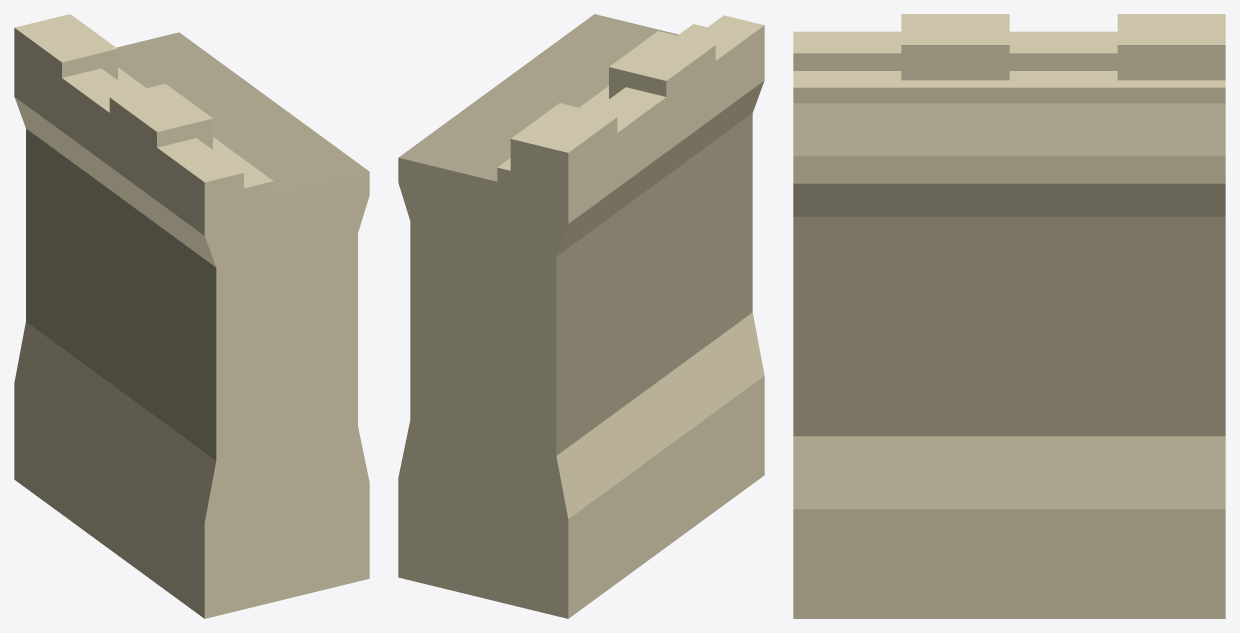
Rendered from wallNarrow.fbx.
3 views of the same model, side by side, from view 1: azimuth 30°, elevation 25°; view 2: azimuth 150°, elevation 25°; view 3: azimuth 270°, elevation 25° (orthographic). The views are drawn at different scales.
Parts seen in each view (by area): view 1: wallNarrow; view 2: wallNarrow; view 3: wallNarrow.
Part boxes in pixels (left/top/right/bottom): wallNarrow: left=14, top=14, right=369, bottom=618; wallNarrow: left=398, top=14, right=764, bottom=618; wallNarrow: left=793, top=14, right=1225, bottom=618.
Bounding box in the file's own units: 5 × 13.1 × 10.
